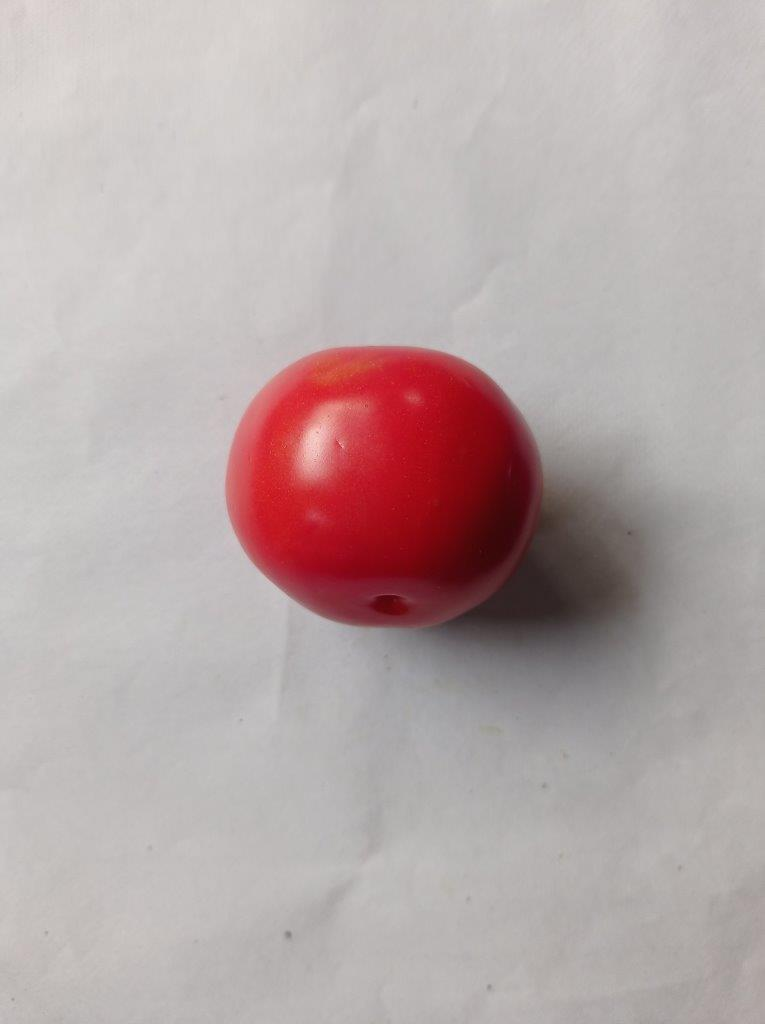tomato: (227, 347, 540, 625)
